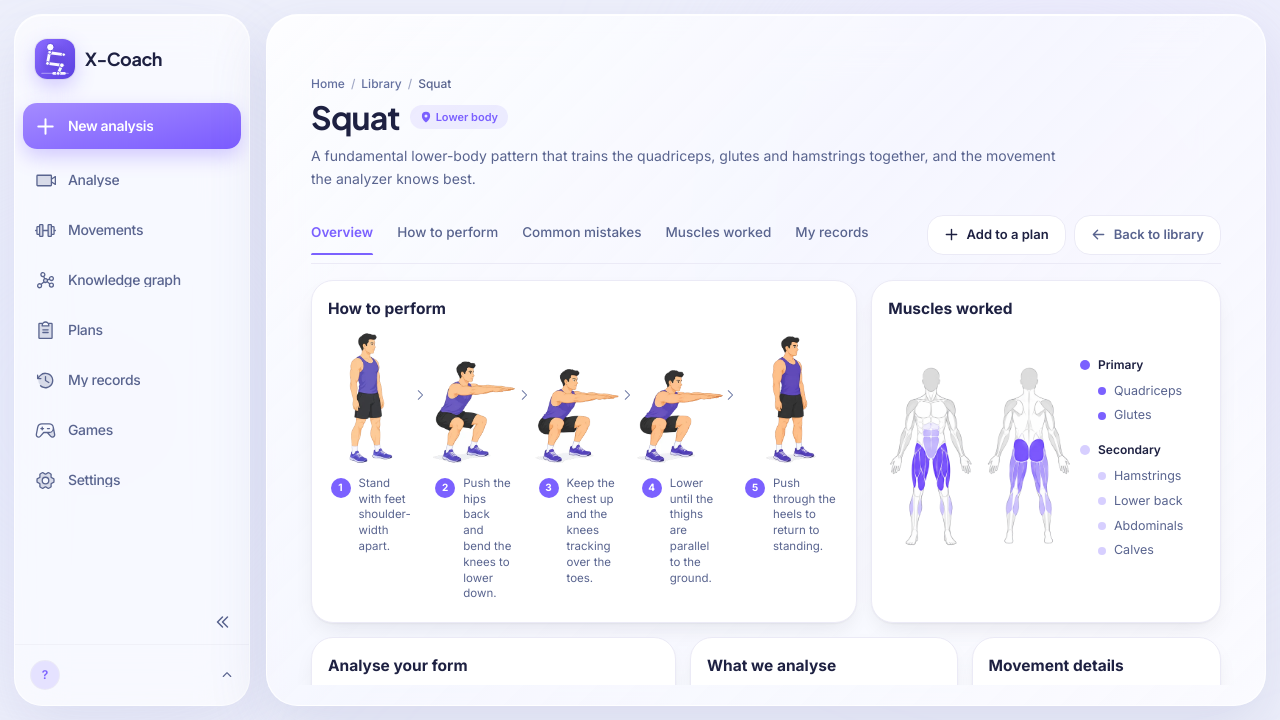
Scenario: MovementDetail — add to a plan › confirms where the movement landed, with a way into that plan
The image size is (1280, 720).
Click the button "Add to a plan" at (996, 234), box [926, 214, 1066, 254]
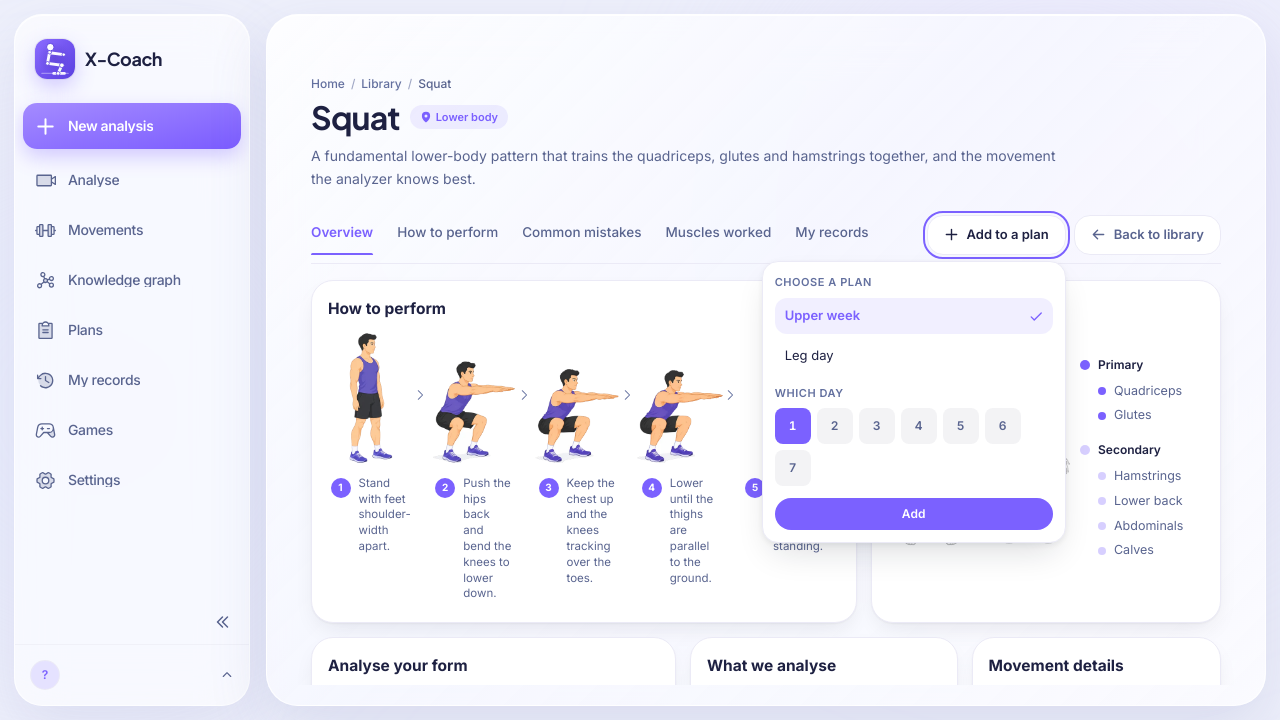
Click the menu item "Leg day" at (809, 354), box [775, 338, 1053, 373]
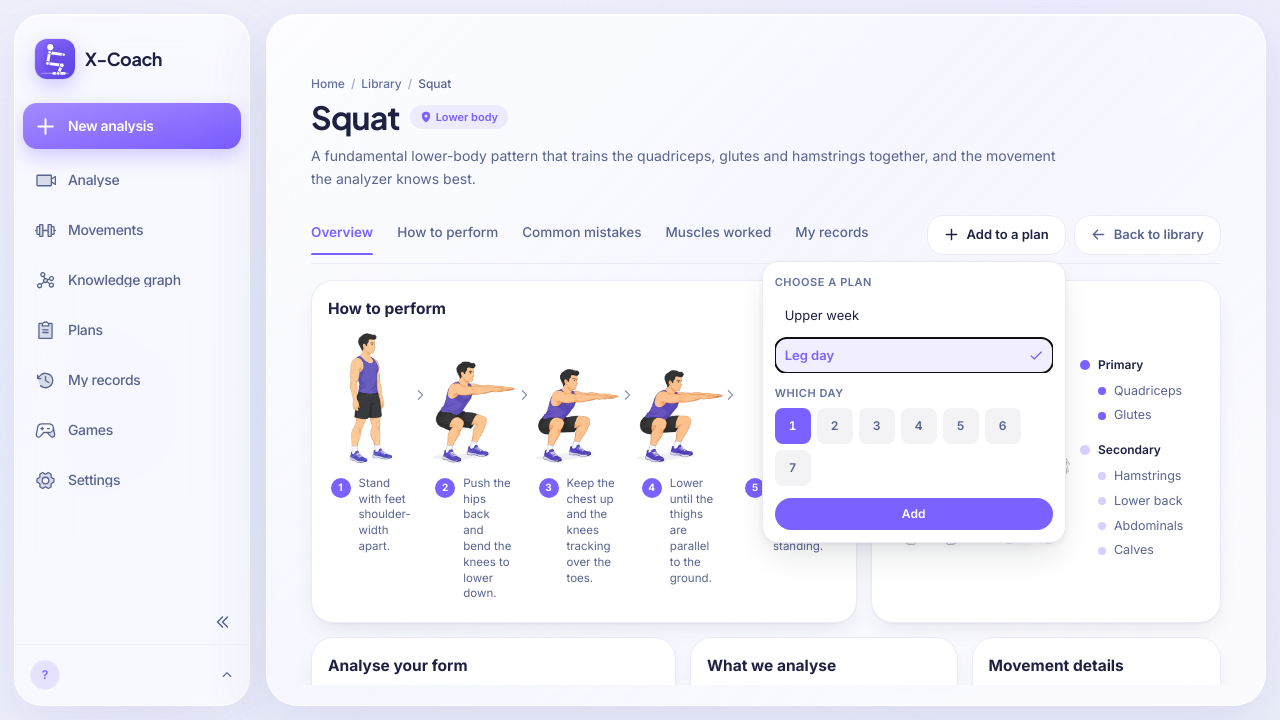
Click the button "2" at (835, 426), box [817, 408, 853, 444]
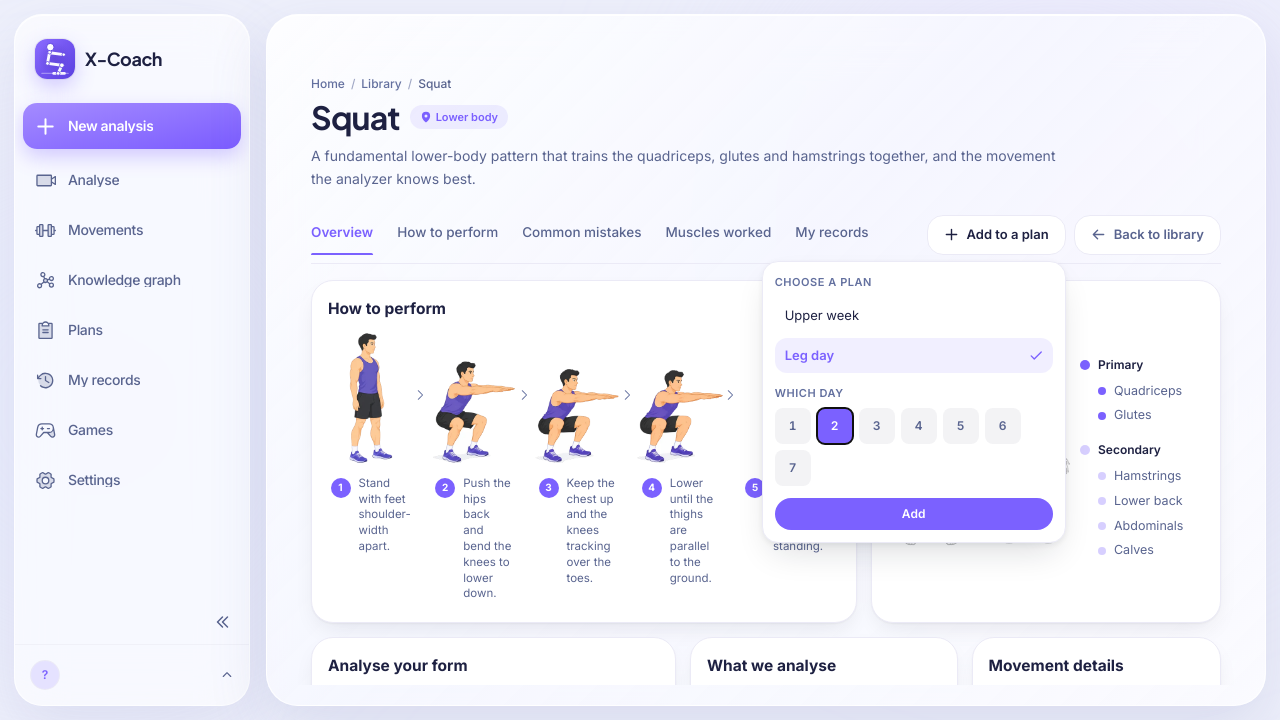
Click the button "Add" at (914, 514), box [775, 498, 1053, 530]
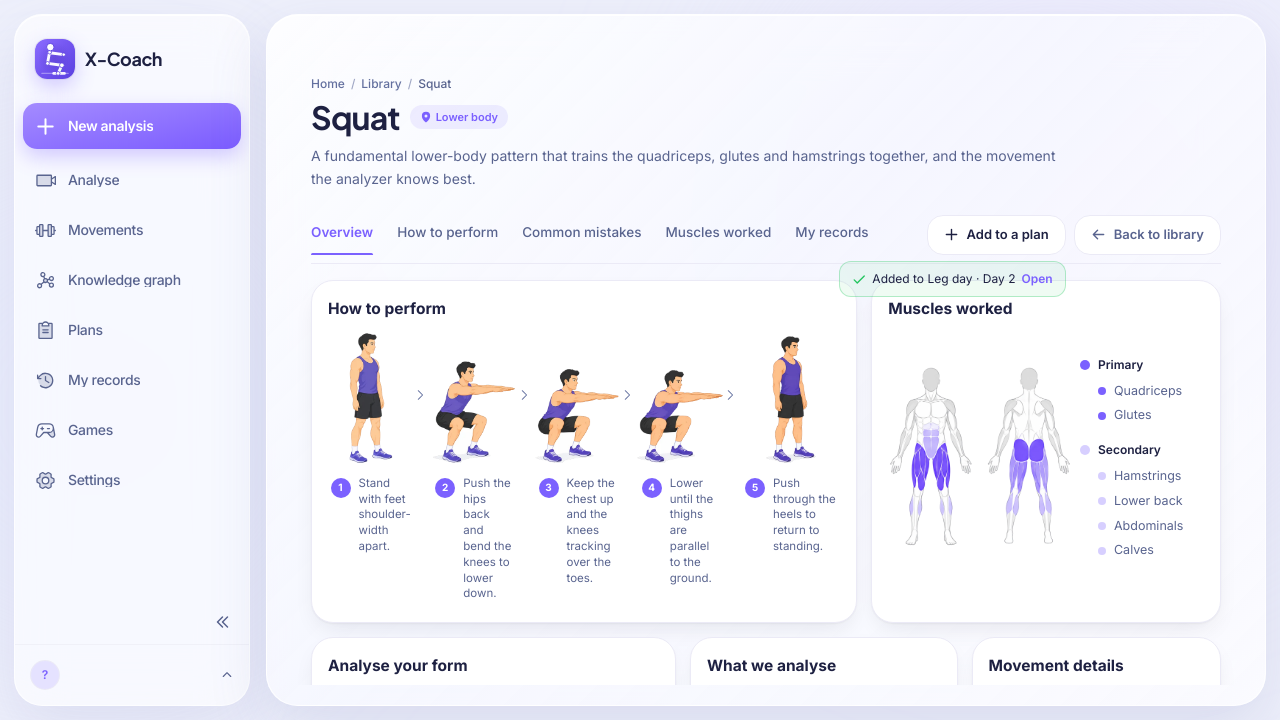
Expected: the text "Added to Leg day · Day 2 Open" is shown, [839, 260, 1066, 296]
Expected: the menu is gone
